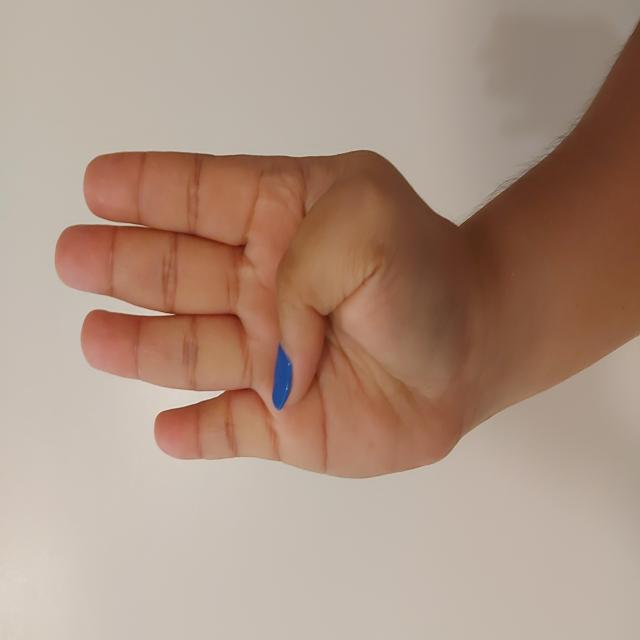B: (160, 51, 494, 465)
